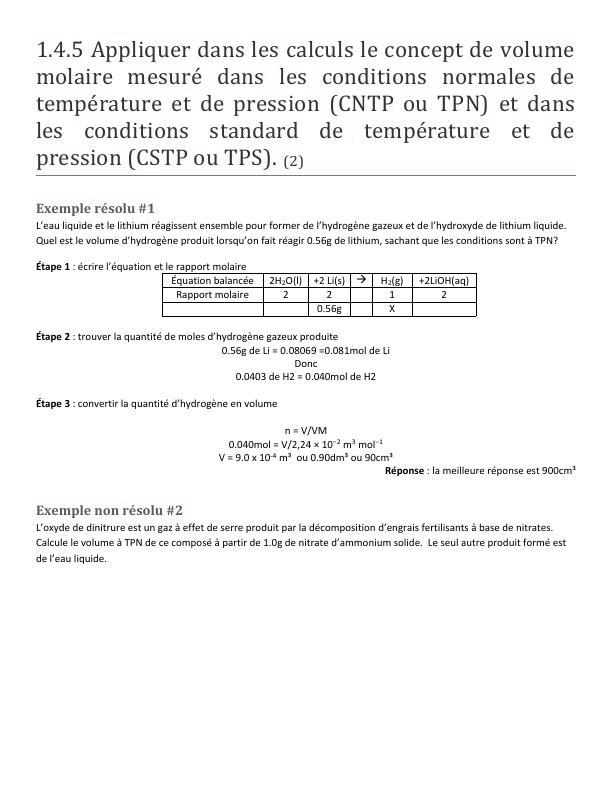table: (159, 271, 483, 321)
text: (31, 34, 578, 172), (32, 503, 573, 573), (34, 199, 570, 254), (217, 341, 401, 385), (214, 421, 397, 464), (31, 394, 280, 414), (33, 328, 340, 342), (382, 465, 585, 481), (34, 258, 249, 271)
